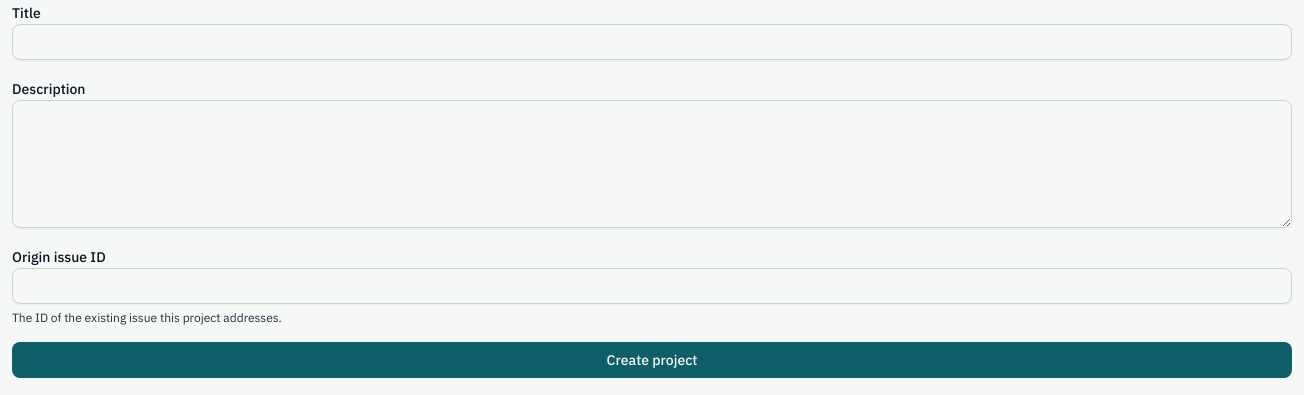
Test: ProjectCreateForm › pending: disables controls and blocks duplicate submission
Type "Pipe repair" into the field labelled "Title" at point(652, 42), box [12,24,1292,60]
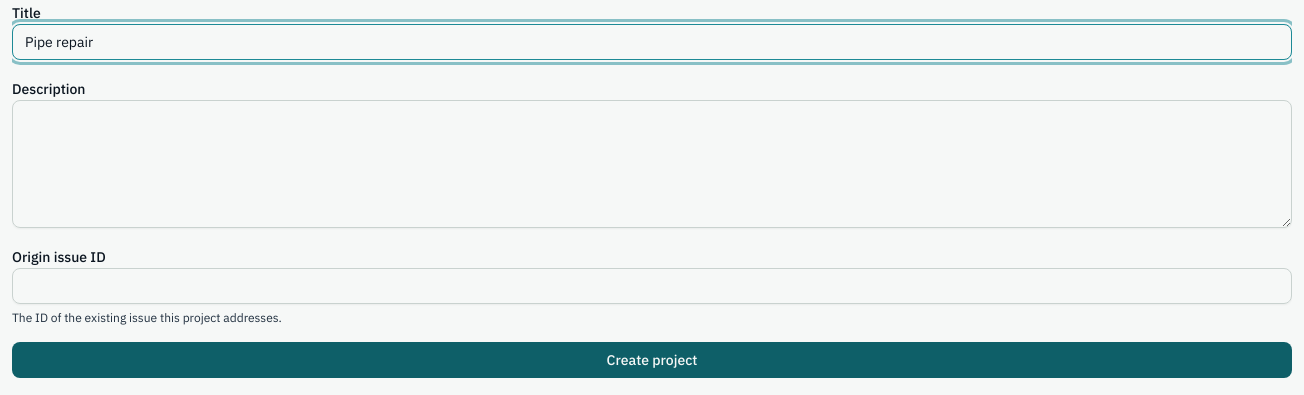
Type "Coordinated fix" into the text box labelled "Description" at point(652, 164), box [12,100,1292,228]
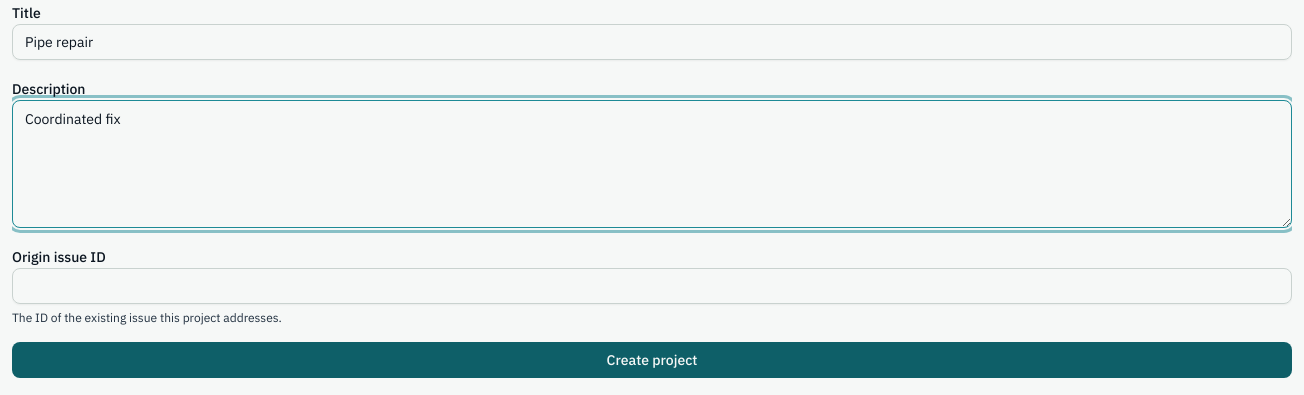
Type "507f1f77bcf86cd799439011" into the field labelled "Origin issue ID" at point(652, 286), box [12,268,1292,304]
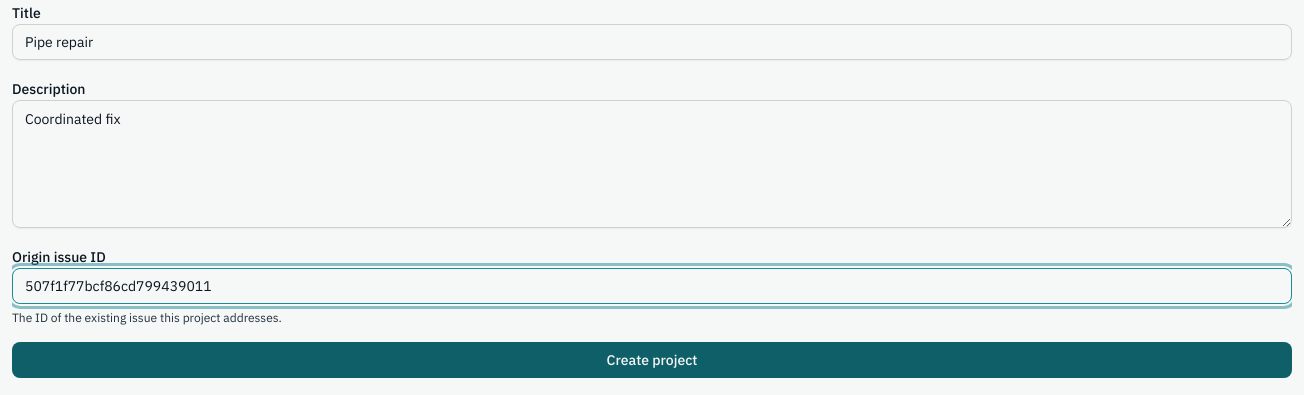
Click the button "Create project" at point(652, 360), box [12,342,1292,378]
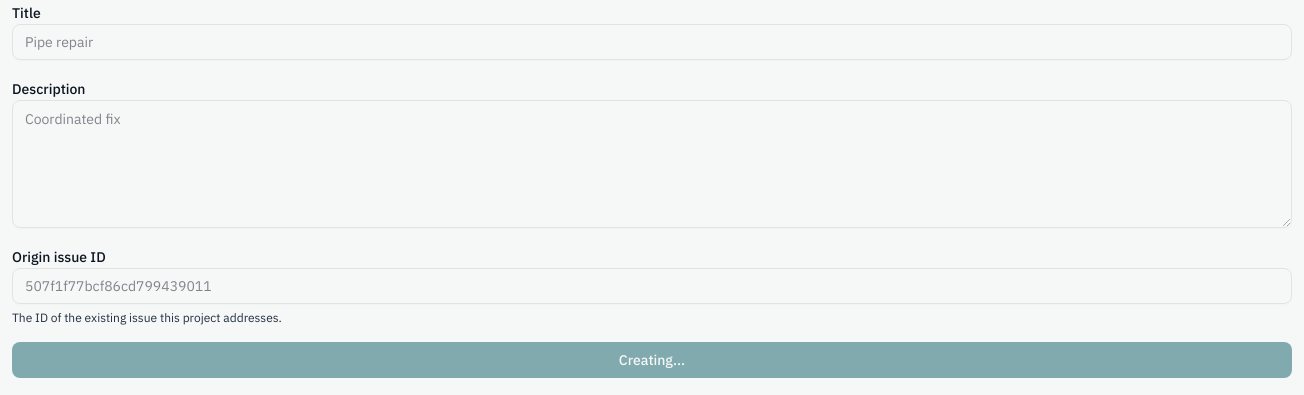
Expected: the button "Creating..." is disabled, [12,342,1292,378]
Submit the form named "Create project"
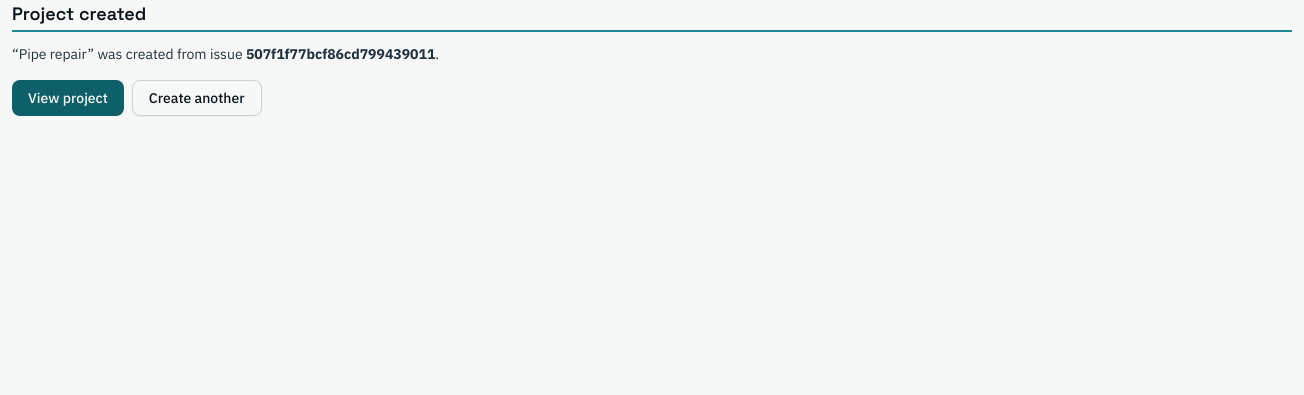
Expected: the heading "Project created" is shown, [12,0,1292,28]
